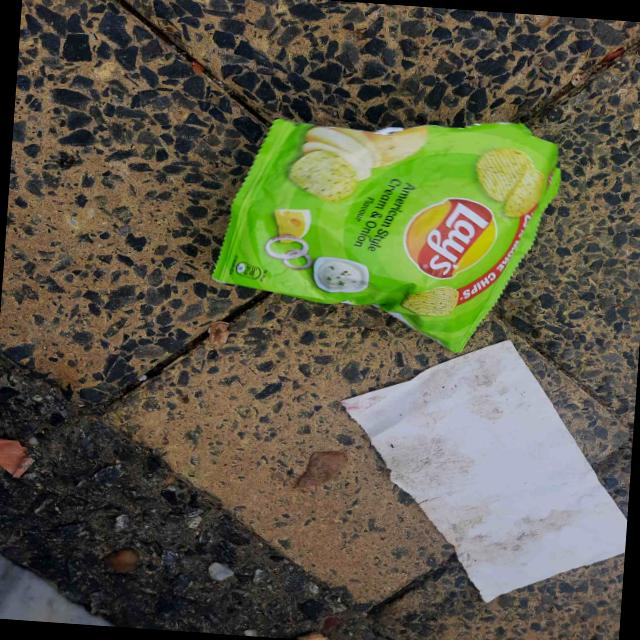giay: (343, 340, 627, 602)
giay_goi: (212, 119, 561, 352)
